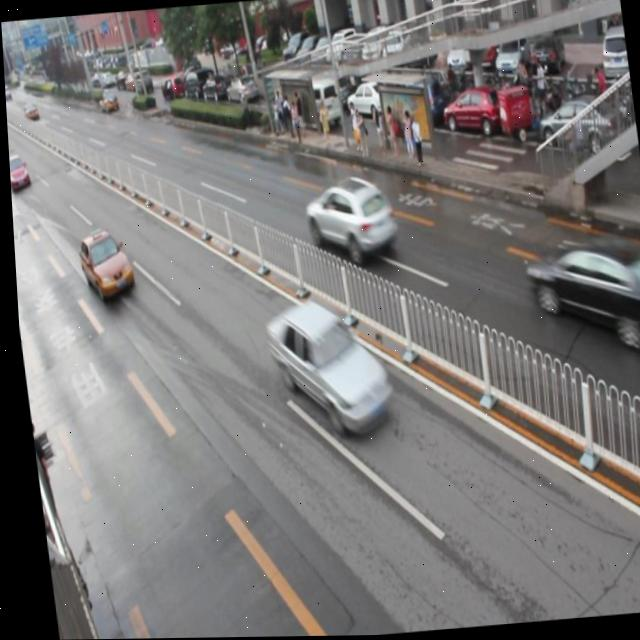car: (258, 296, 392, 440), (518, 231, 640, 348), (298, 176, 395, 264), (72, 224, 133, 302)
